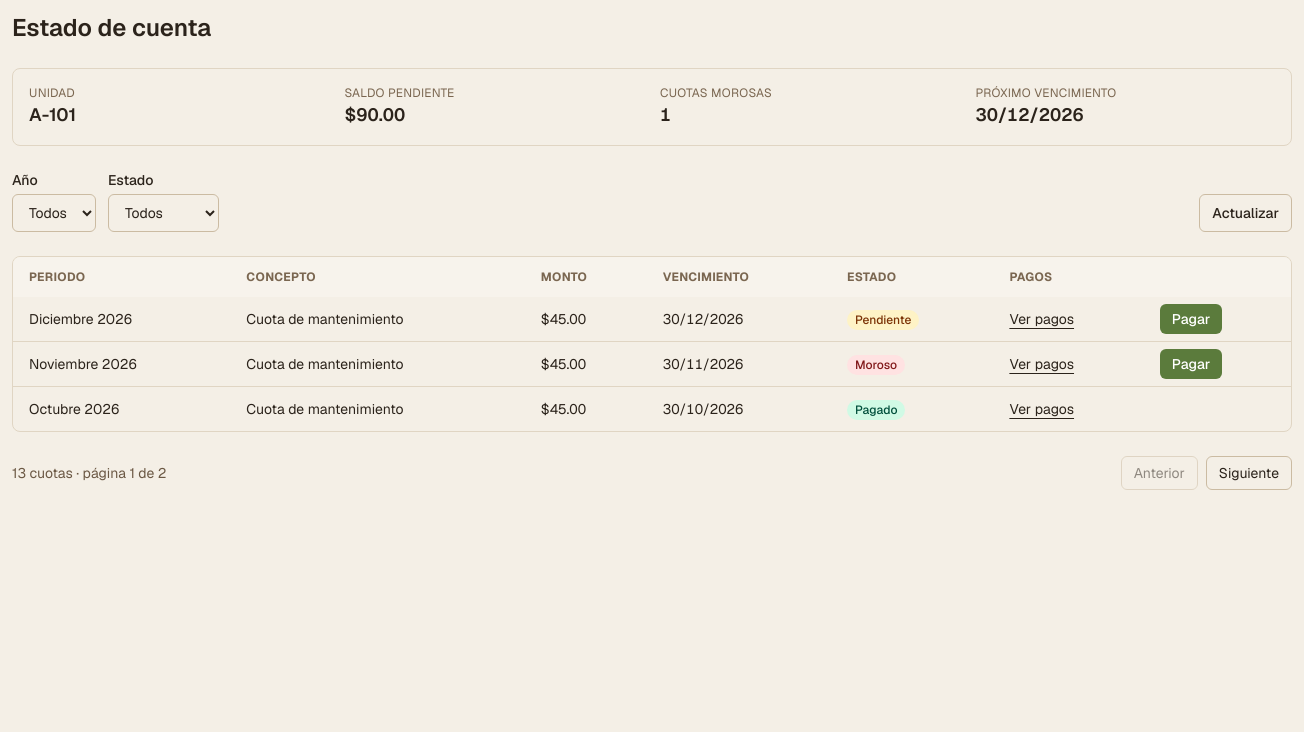
it: H2. Estado de cuenta de la unidad › AC4: al expandir una cuota se ven sus pagos y solo los Aprobados tienen "Ver recibo"
Click the button "Ver pagos" in the row of "diciembre 2026".
click(1042, 319)  # box top-left (1009, 309), bottom-right (1074, 329)
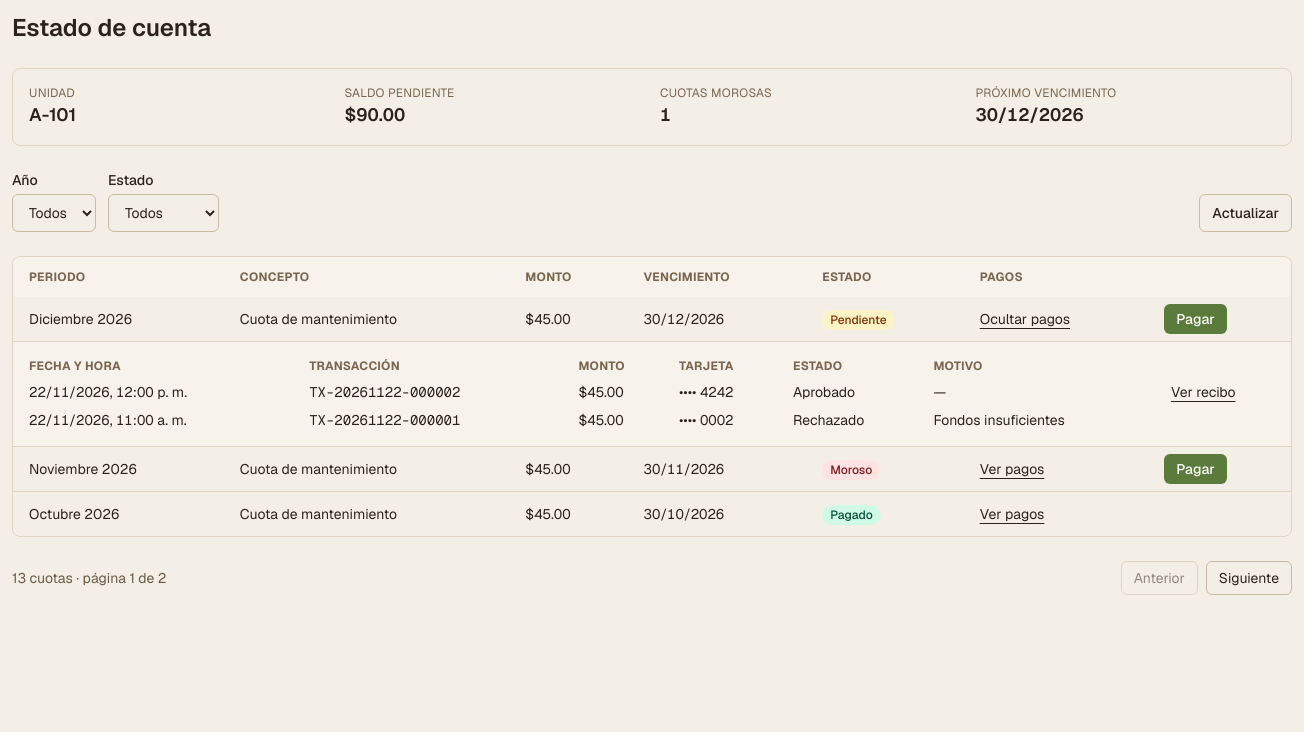
Expected: the column heading "Fecha y hora" is shown, top-left (29, 354), bottom-right (309, 378)
Expected: the column heading "Transacción" is shown, top-left (309, 354), bottom-right (578, 378)
Expected: the column heading "Monto" in the row of "Fecha y hora" is shown, top-left (578, 358), bottom-right (625, 374)
